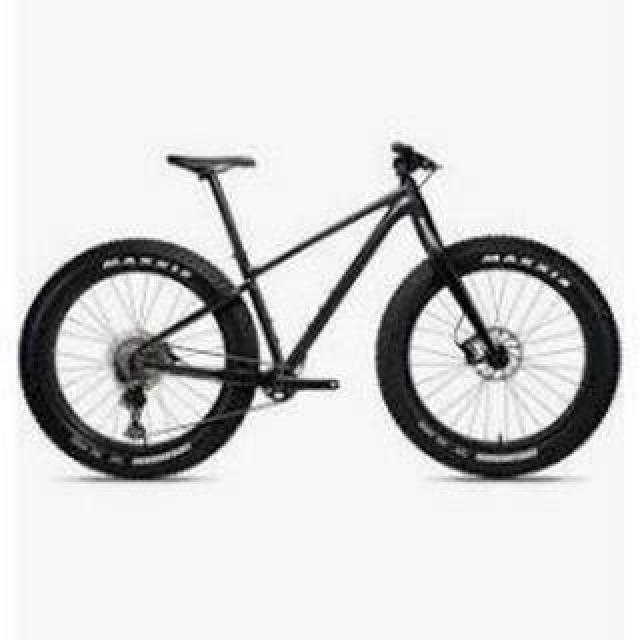Person: (16, 138, 624, 484)
